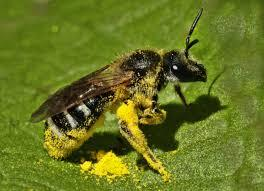Lasioglossum: (37, 6, 217, 185)
